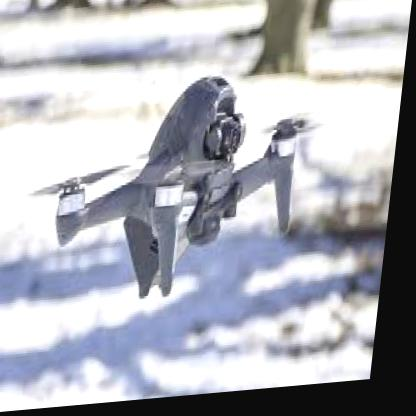UAS: (20, 71, 318, 311)
